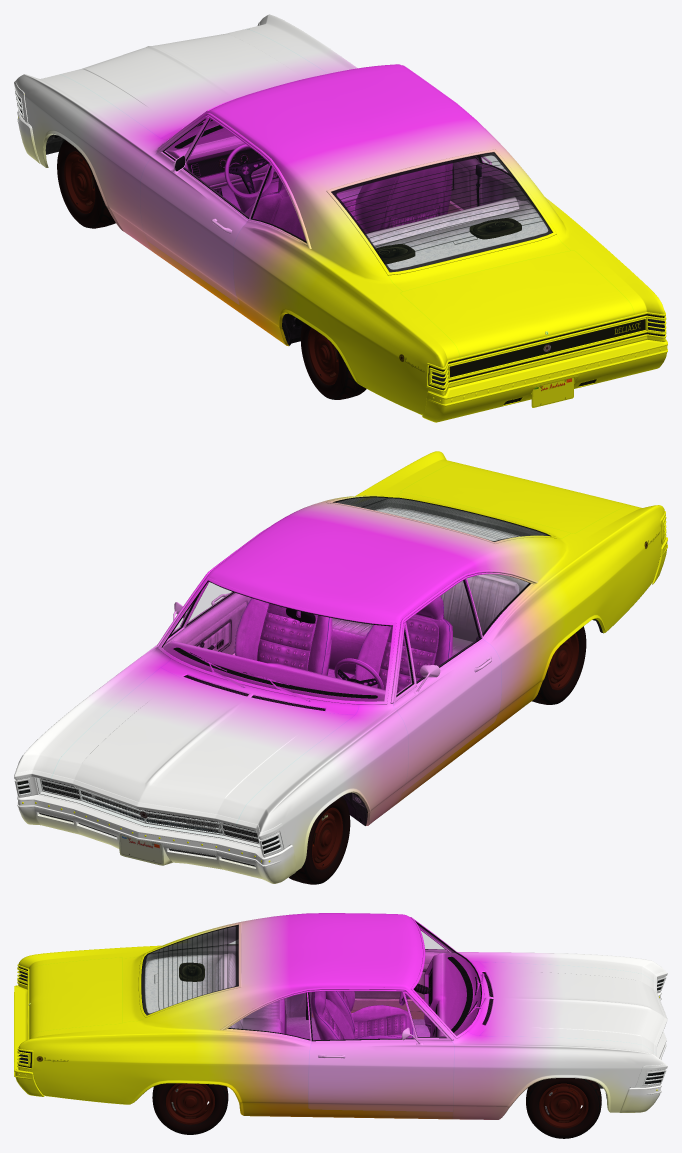
Rendered from impaler.glb.
3 views of the same model, one above another, from view 1: azimuth 30°, elevation 25°; view 2: azimuth 150°, elevation 25°; view 3: azimuth 270°, elevation 25° (orthographic). The views are drawn at different scales.
Parts seen in each view (by area): view 1: bodyshell, chassis, windscreen_r, boot, bonnet, door_dside_f, misc_l, window_lf, wheel_lf, wheel_lr, misc_f, misc_b (+2 smaller); view 2: bodyshell, bonnet, chassis, door_dside_f, bumper_f, boot, window_lf, windscreen_r, door_pside_f, wheel_lf, wheel_lr, misc_b (+2 smaller); view 3: bodyshell, chassis, bonnet, door_pside_f, boot, windscreen_r, window_rf, wheel_rf, wheel_rr, misc_g, misc_d, door_dside_f (+3 smaller).
Boxes of the visible parts, left/top/right/bottom form: bodyshell: left=14, top=14, right=666, bottom=415; chassis: left=17, top=95, right=664, bottom=385; windscreen_r: left=331, top=152, right=552, bottom=272; boot: left=401, top=250, right=634, bottom=357; bonnet: left=60, top=29, right=327, bottom=137; door_dside_f: left=140, top=116, right=249, bottom=304; misc_l: left=422, top=338, right=667, bottom=422; window_lf: left=184, top=119, right=268, bottom=218; wheel_lf: left=57, top=140, right=115, bottom=228; wheel_lr: left=300, top=322, right=366, bottom=399; misc_f: left=108, top=208, right=288, bottom=346; misc_b: left=251, top=167, right=305, bottom=241; bodyshell: left=14, top=451, right=666, bottom=871; bonnet: left=51, top=667, right=354, bottom=826; chassis: left=17, top=497, right=603, bottom=853; door_dside_f: left=393, top=622, right=501, bottom=792; bumper_f: left=17, top=795, right=295, bottom=883; boot: left=401, top=462, right=629, bottom=533; window_lf: left=407, top=580, right=481, bottom=682; windscreen_r: left=333, top=496, right=550, bottom=541; door_pside_f: left=151, top=581, right=251, bottom=655; wheel_lf: left=289, top=796, right=350, bottom=884; wheel_lr: left=532, top=626, right=586, bottom=704; misc_b: left=468, top=575, right=529, bottom=634; bodyshell: left=17, top=913, right=667, bottom=1112; chassis: left=18, top=924, right=664, bottom=1098; bonnet: left=480, top=962, right=667, bottom=1053; door_pside_f: left=308, top=991, right=454, bottom=1111; boot: left=28, top=957, right=122, bottom=1037; windscreen_r: left=141, top=925, right=238, bottom=1015; window_rf: left=308, top=992, right=414, bottom=1040; wheel_rf: left=526, top=1078, right=601, bottom=1138; wheel_rr: left=152, top=1083, right=228, bottom=1134; misc_g: left=239, top=1103, right=509, bottom=1119; misc_d: left=230, top=993, right=309, bottom=1039; door_dside_f: left=312, top=928, right=451, bottom=1019.
Bounding box in the file's own units: 1.99 × 1.34 × 5.34.
20 materials, 20 textured.
